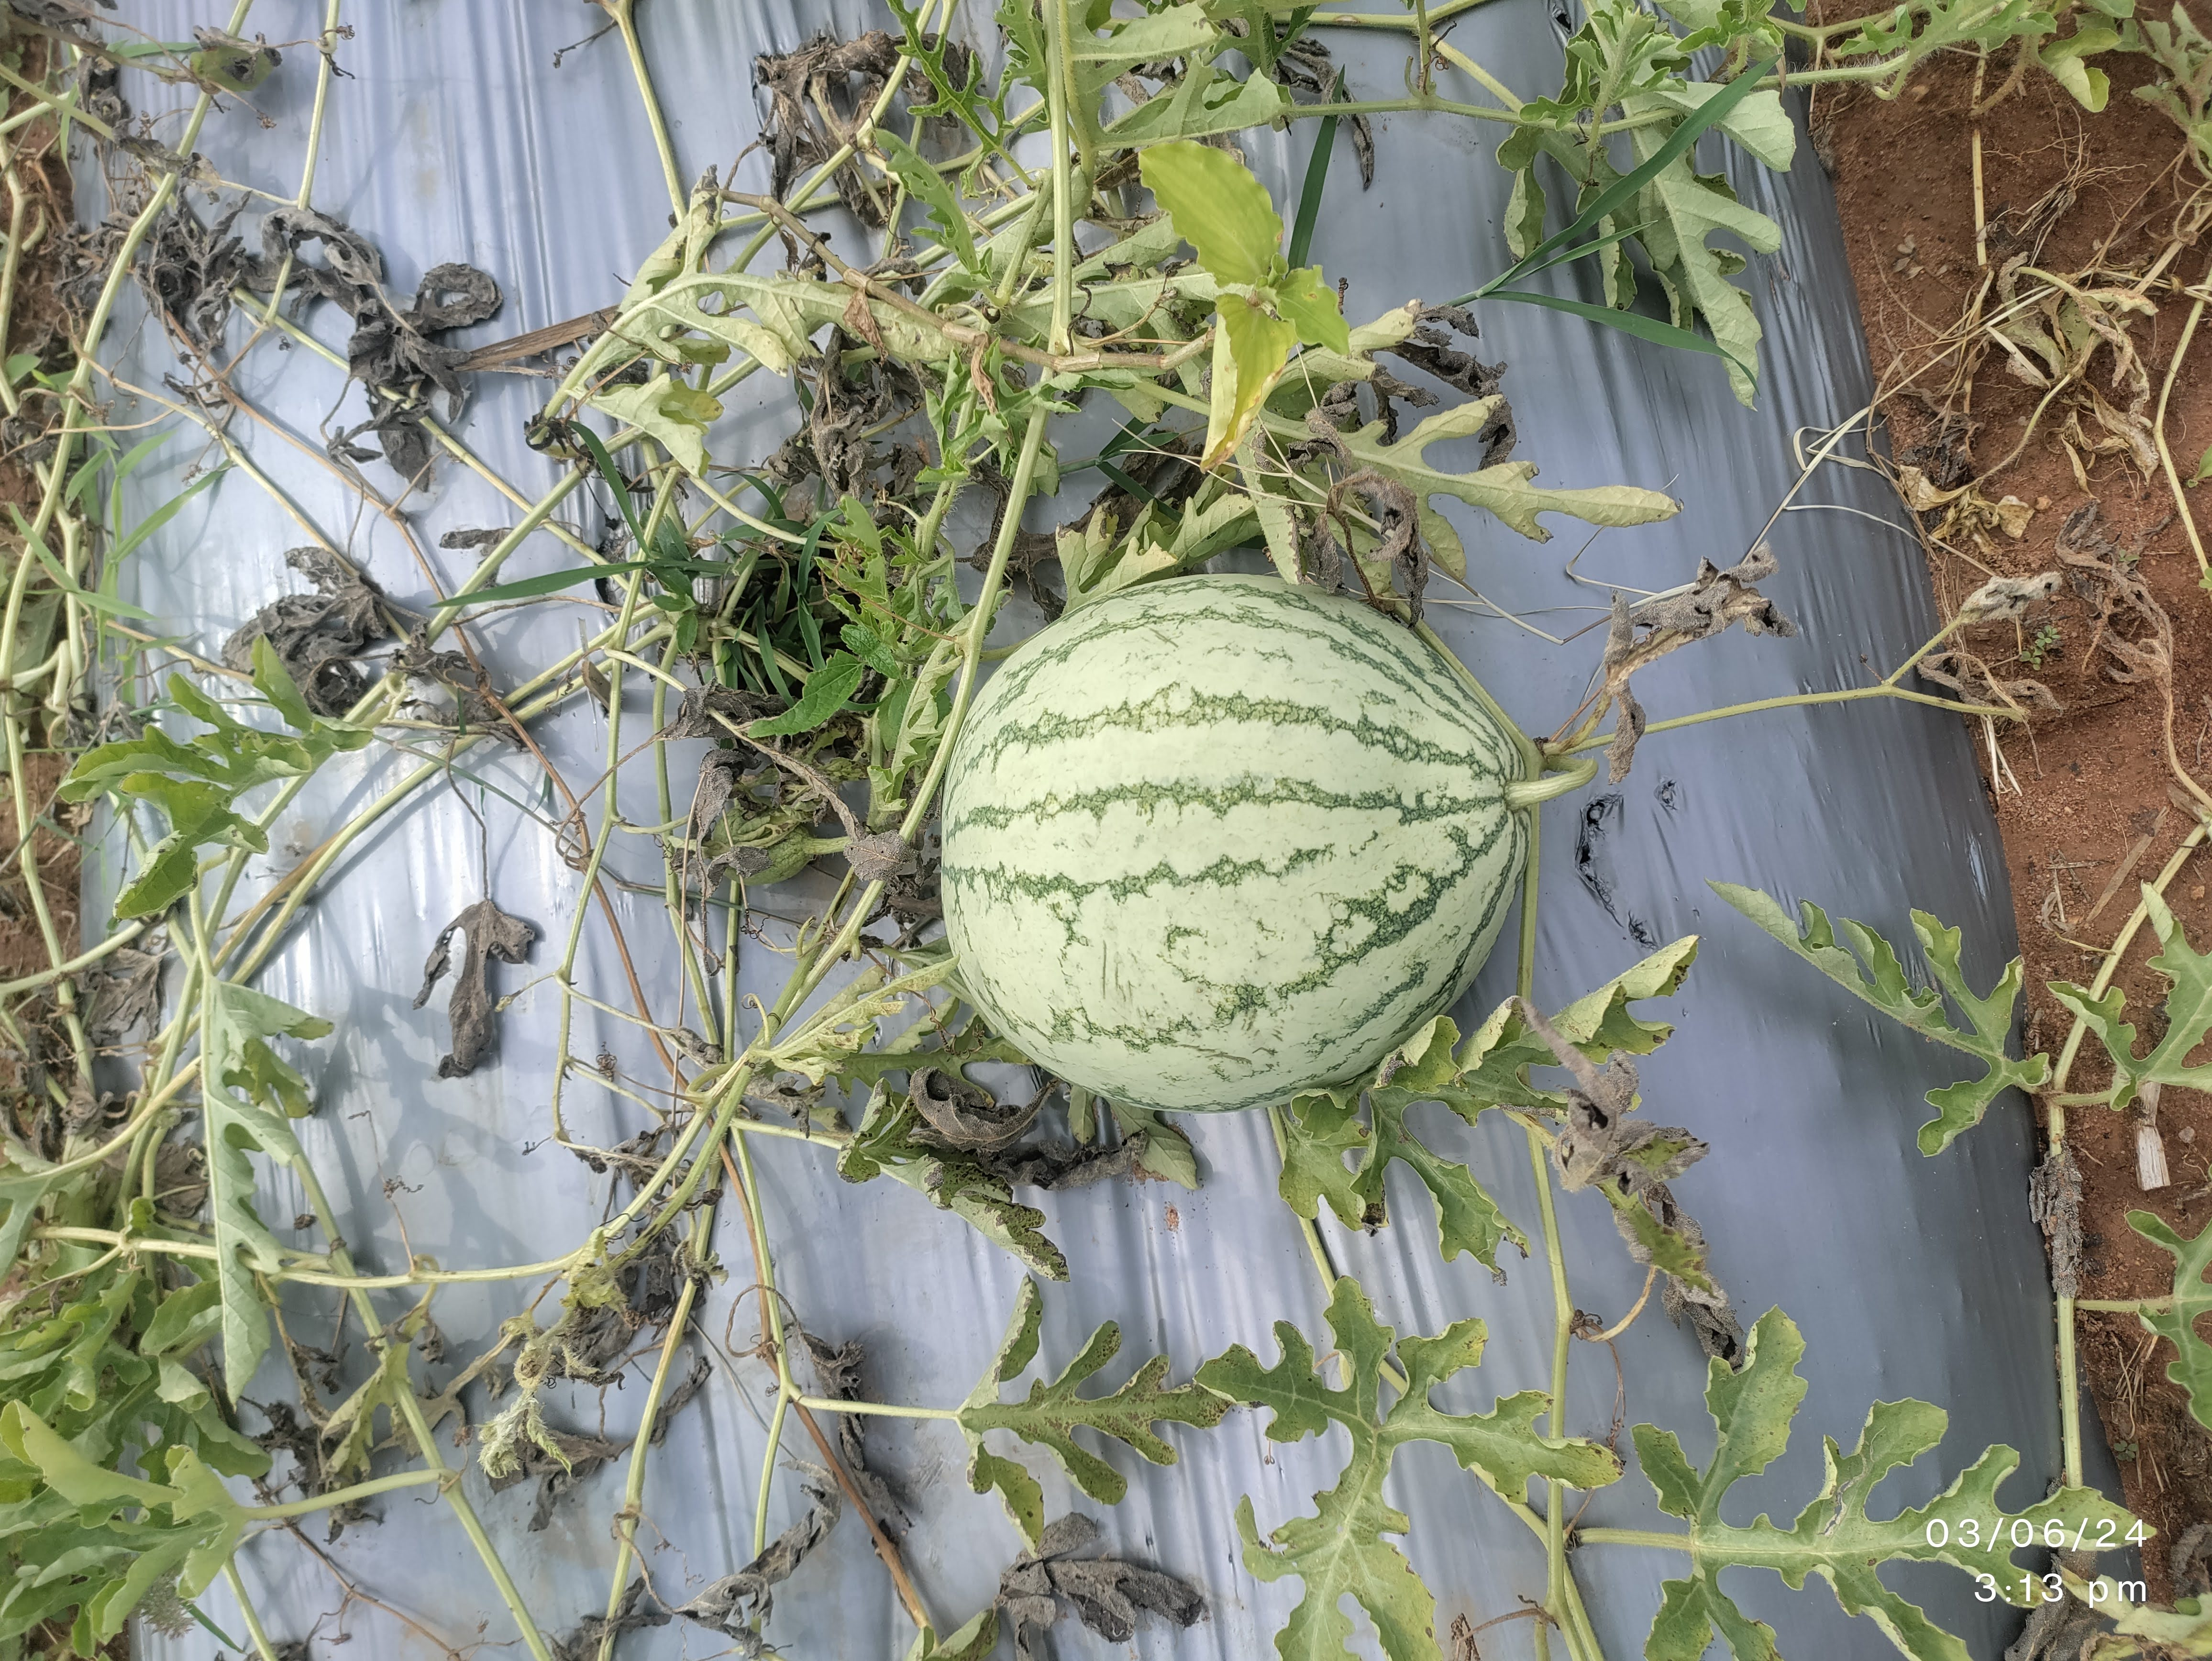good-to-harvest: (881, 471, 1649, 1141)
